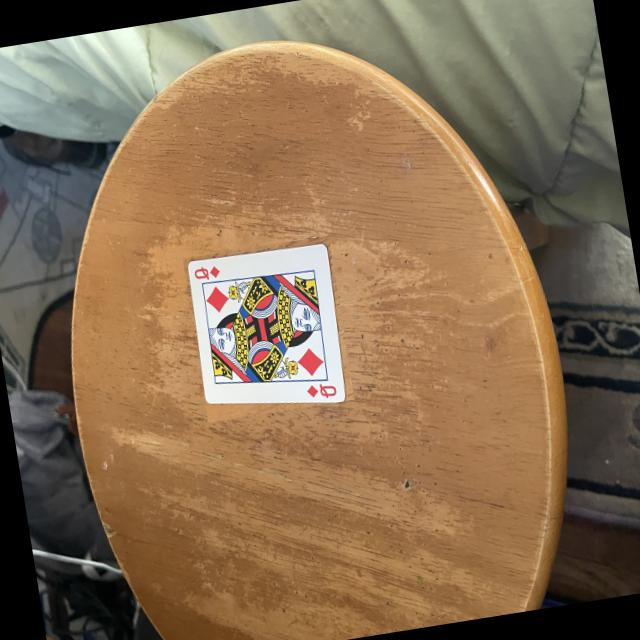Queen of diamonds: (188, 238, 347, 402)
